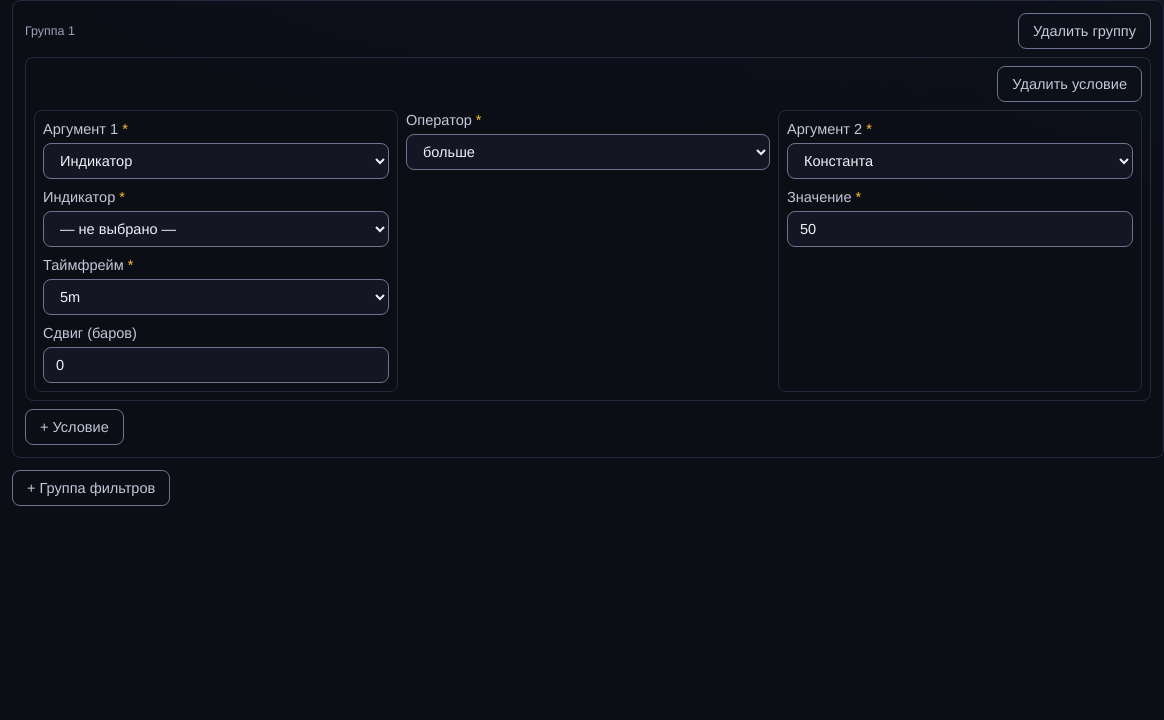
Test: MVP-7.2 I3: предзаполнение из каталога и пометка источника › изменение периода убирает пометку источника (значение больше не «по умолчанию»)
The image size is (1164, 720).
Step 1. Select "RSI" in the dropdown named "Индикатор" → (216, 229), box [43,211,389,247]
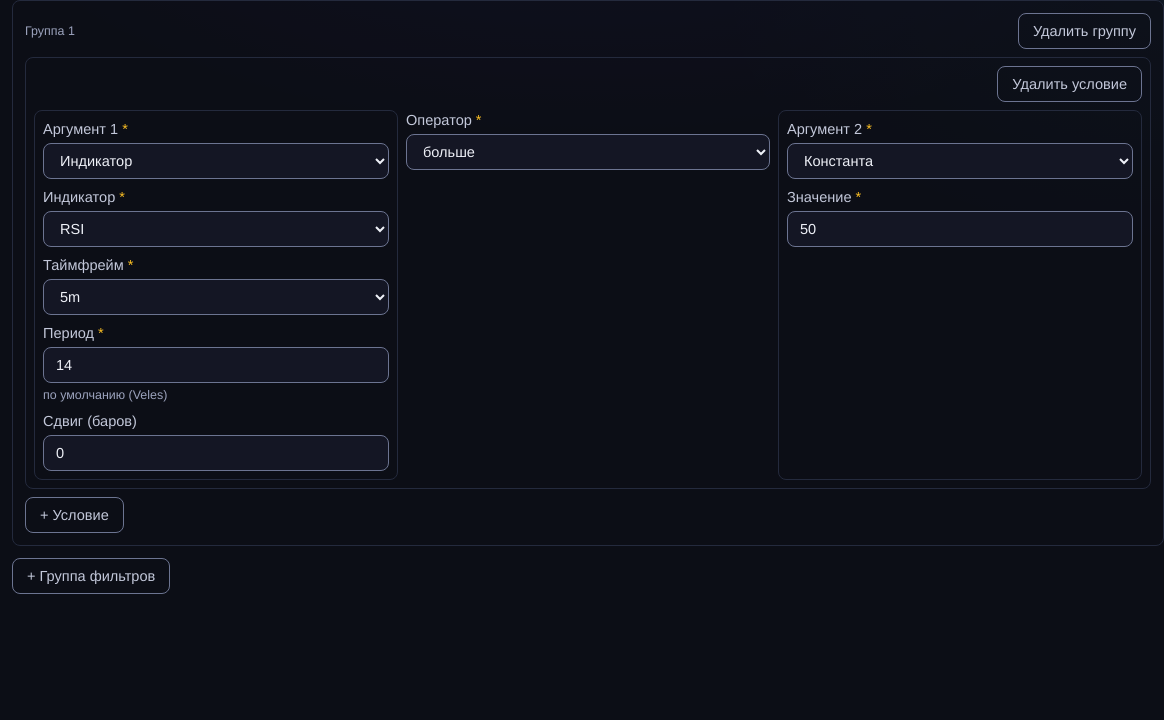
Step 2. Replace the text in the number field named "Период" with "15" → (216, 365), box [43,347,389,383]
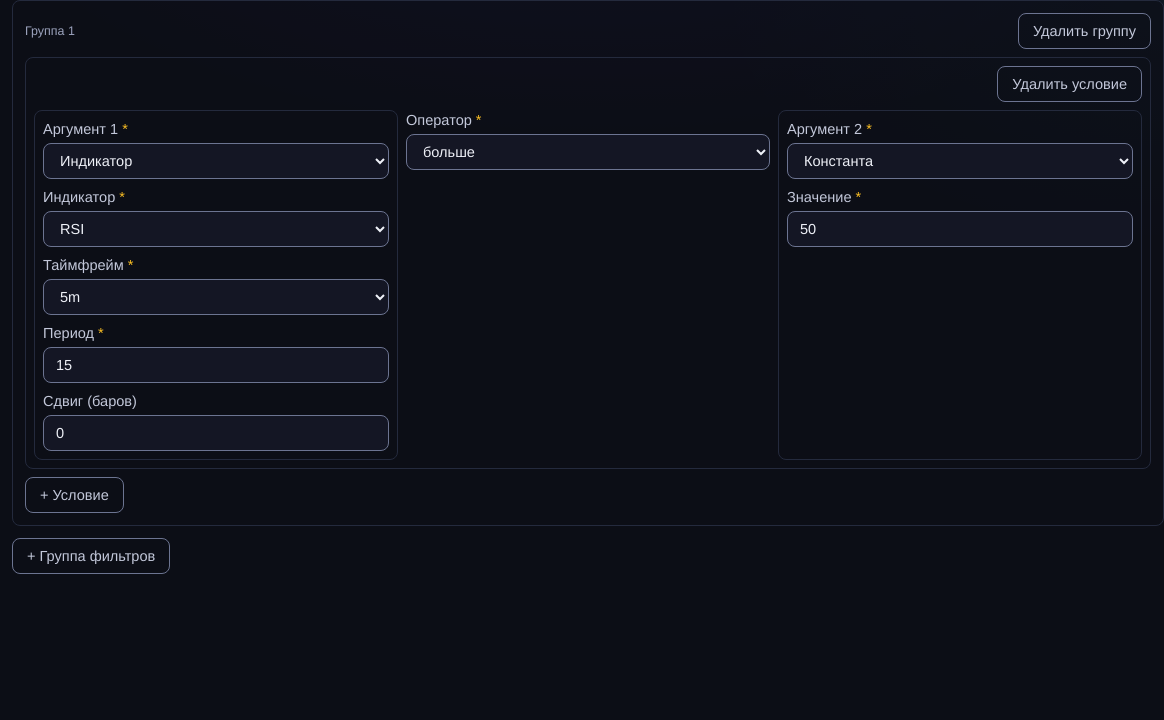
Now the text "по умолчанию (Veles)" is gone
